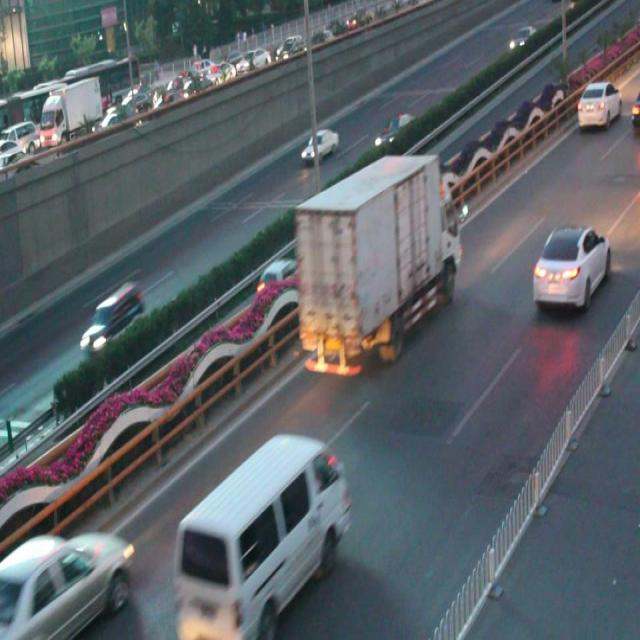bus: (292, 152, 464, 376)
car: (1, 526, 133, 640), (531, 222, 610, 311), (79, 284, 146, 356), (255, 254, 300, 296), (372, 112, 415, 152), (301, 129, 338, 165)
truck: (171, 432, 348, 628)
